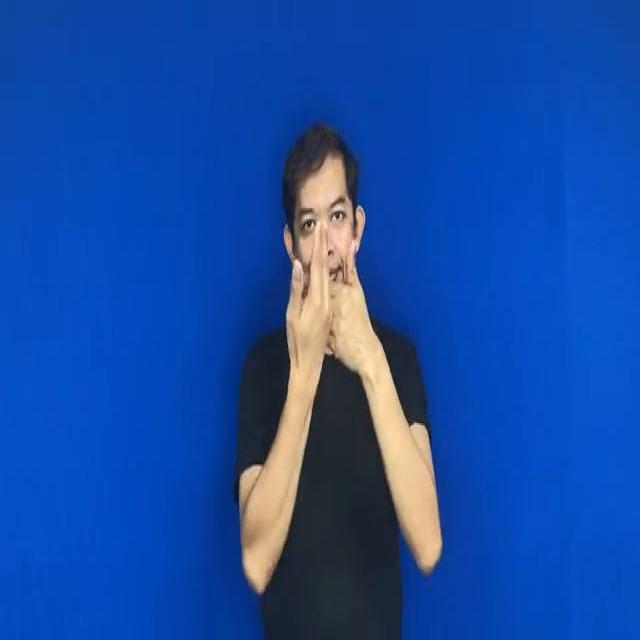bread: (285, 235, 385, 393)
